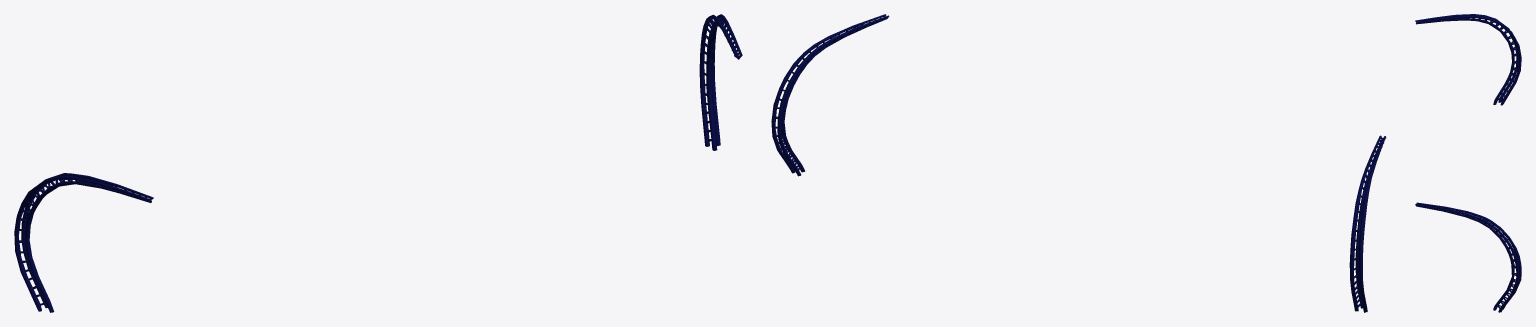
Rendered from Al_Nasar_Football_Stadium_NurbsPath_026.FBX.
3 views of the same model, side by side, from view 1: azimuth 30°, elevation 25°; view 2: azimuth 150°, elevation 25°; view 3: azimuth 270°, elevation 25° (orthographic). The views are drawn at different scales.
Visible parts, largest first — view 1: Al_Nasar_Football_Stadium_NurbsPath_026; view 2: Al_Nasar_Football_Stadium_NurbsPath_026; view 3: Al_Nasar_Football_Stadium_NurbsPath_026.
Boxes of the visible parts, x1,y1,x2,y2 form: Al_Nasar_Football_Stadium_NurbsPath_026: (14, 14, 742, 312); Al_Nasar_Football_Stadium_NurbsPath_026: (771, 14, 1385, 312); Al_Nasar_Football_Stadium_NurbsPath_026: (1415, 14, 1521, 312).
Size of the model in its own units: 18905 by 3924 by 3873.
